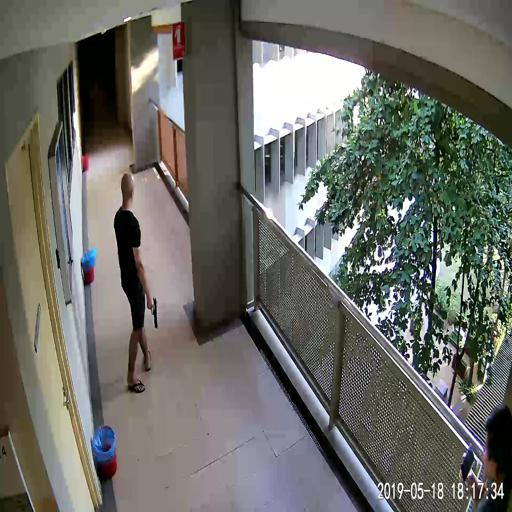pistol: (146, 295, 158, 328)
